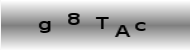8: (67, 12, 81, 26)
A: (113, 24, 131, 38)
T: (95, 16, 110, 29)
c: (134, 21, 147, 31)
g: (38, 20, 51, 33)
